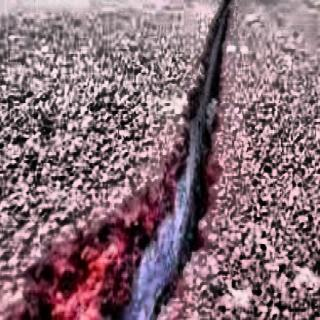crack: (104, 0, 230, 320)
